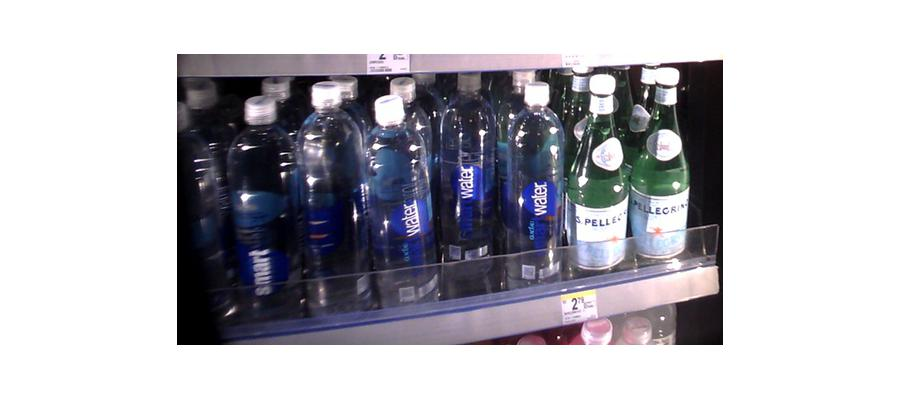bottle: (362, 86, 434, 308), (295, 85, 364, 316), (227, 95, 293, 327), (503, 76, 566, 290), (435, 77, 496, 294), (570, 72, 632, 279), (635, 68, 690, 266), (178, 100, 222, 337)
